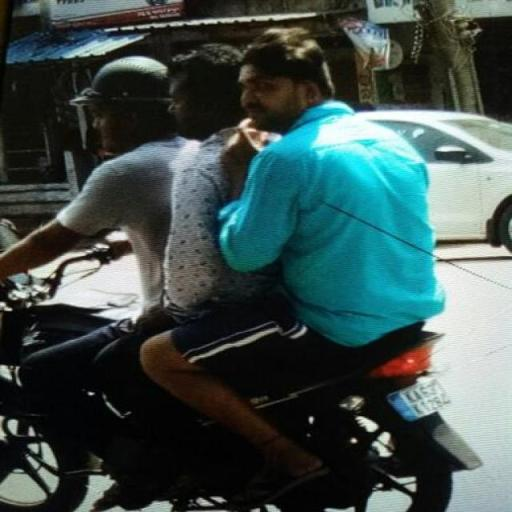tripple riding: (26, 24, 454, 278)
